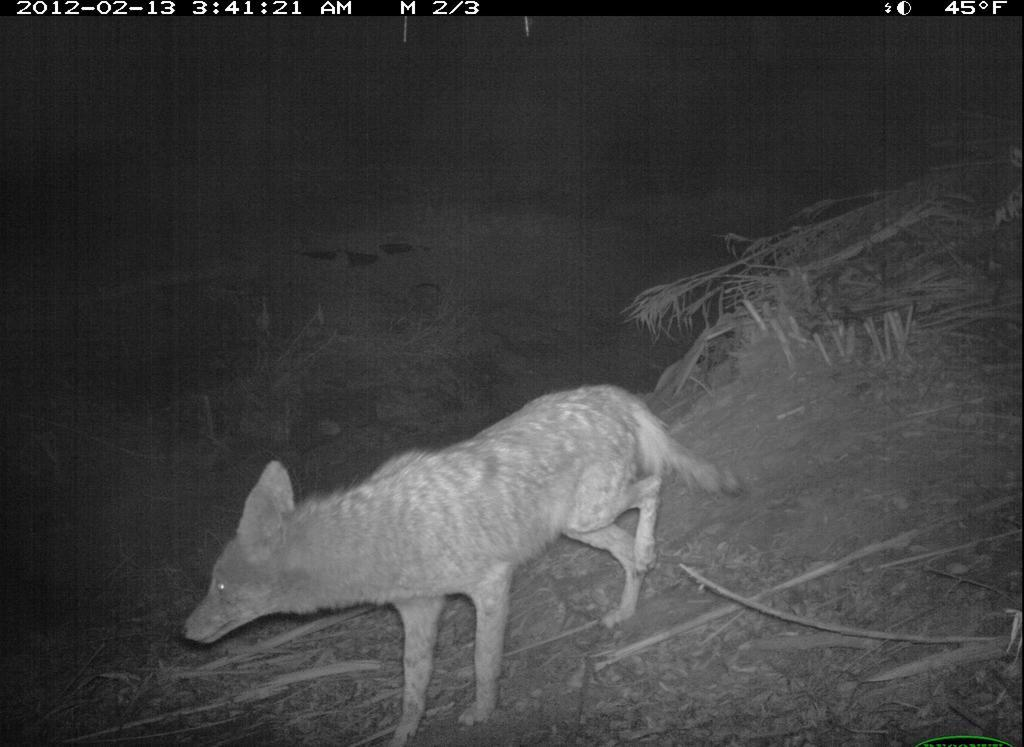coyote: (171, 376, 760, 745)
